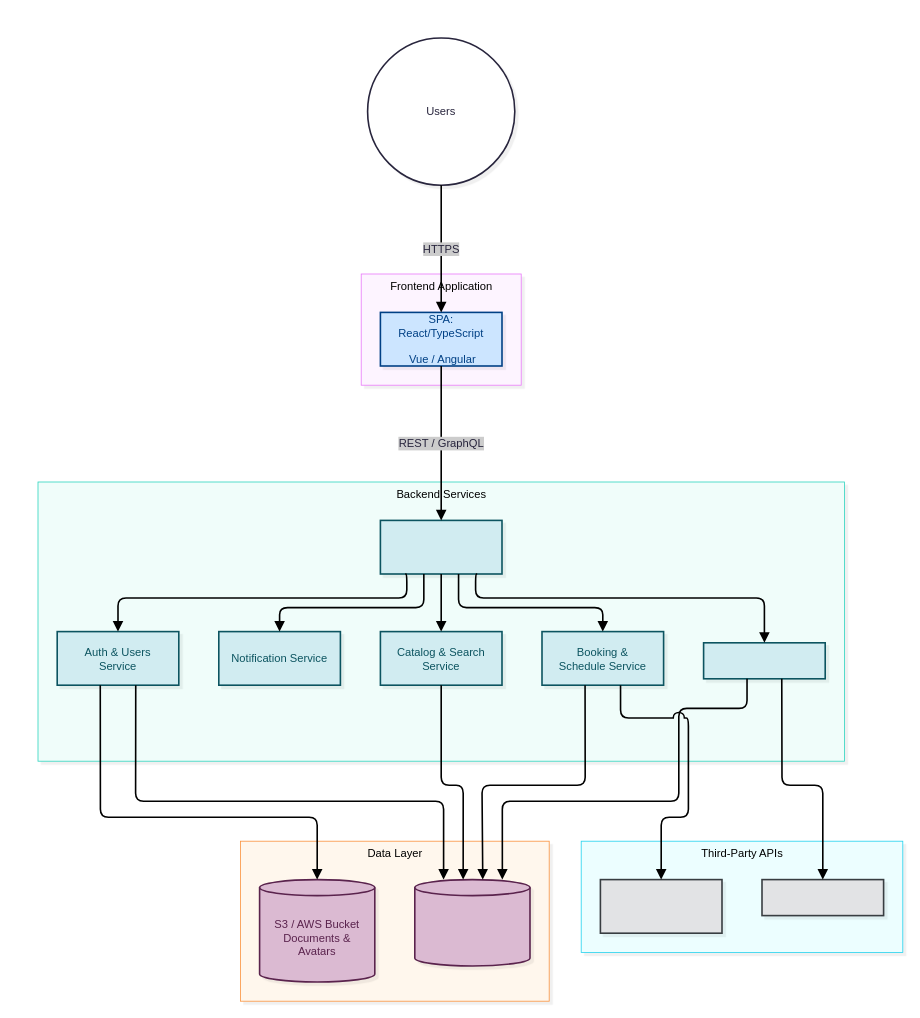
Some shapes in this 920 by 1018 pixel diagram are drawn without their labels. Each missing label, with the centre of its shape:
"API Gateway / Router" belongs at pixel 442 548.
"Payment Service" belongs at pixel 765 662.
"PostgreSQL Database" belongs at pixel 474 924.
"Stripe API" belongs at pixel 824 898.
"Zoom Meeting API" belongs at pixel 662 907.
